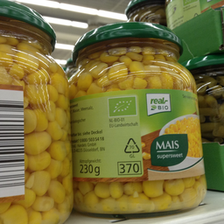corn: (68, 21, 206, 218), (1, 1, 74, 222)
